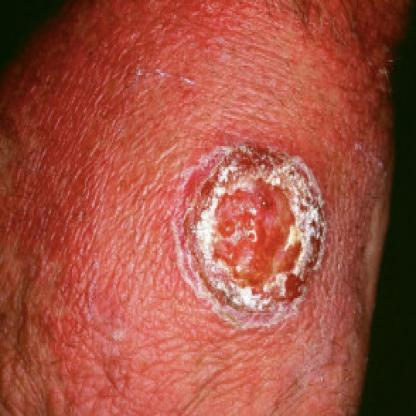Warts: (170, 124, 335, 336)
